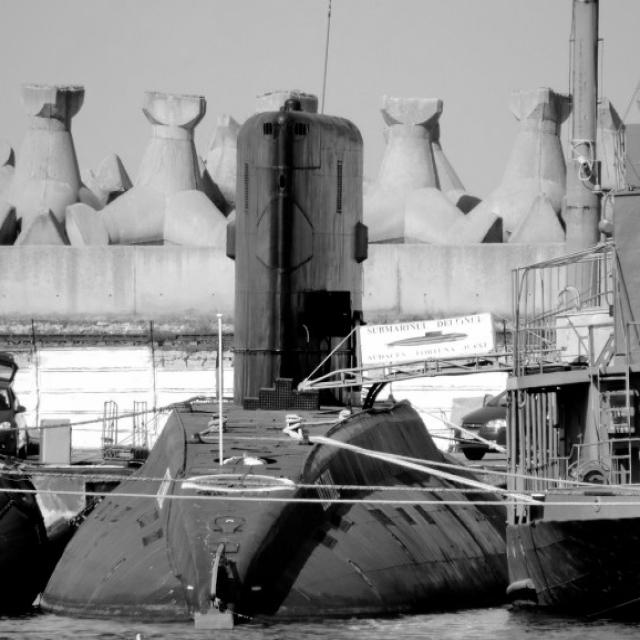submarine: (32, 113, 506, 623)
